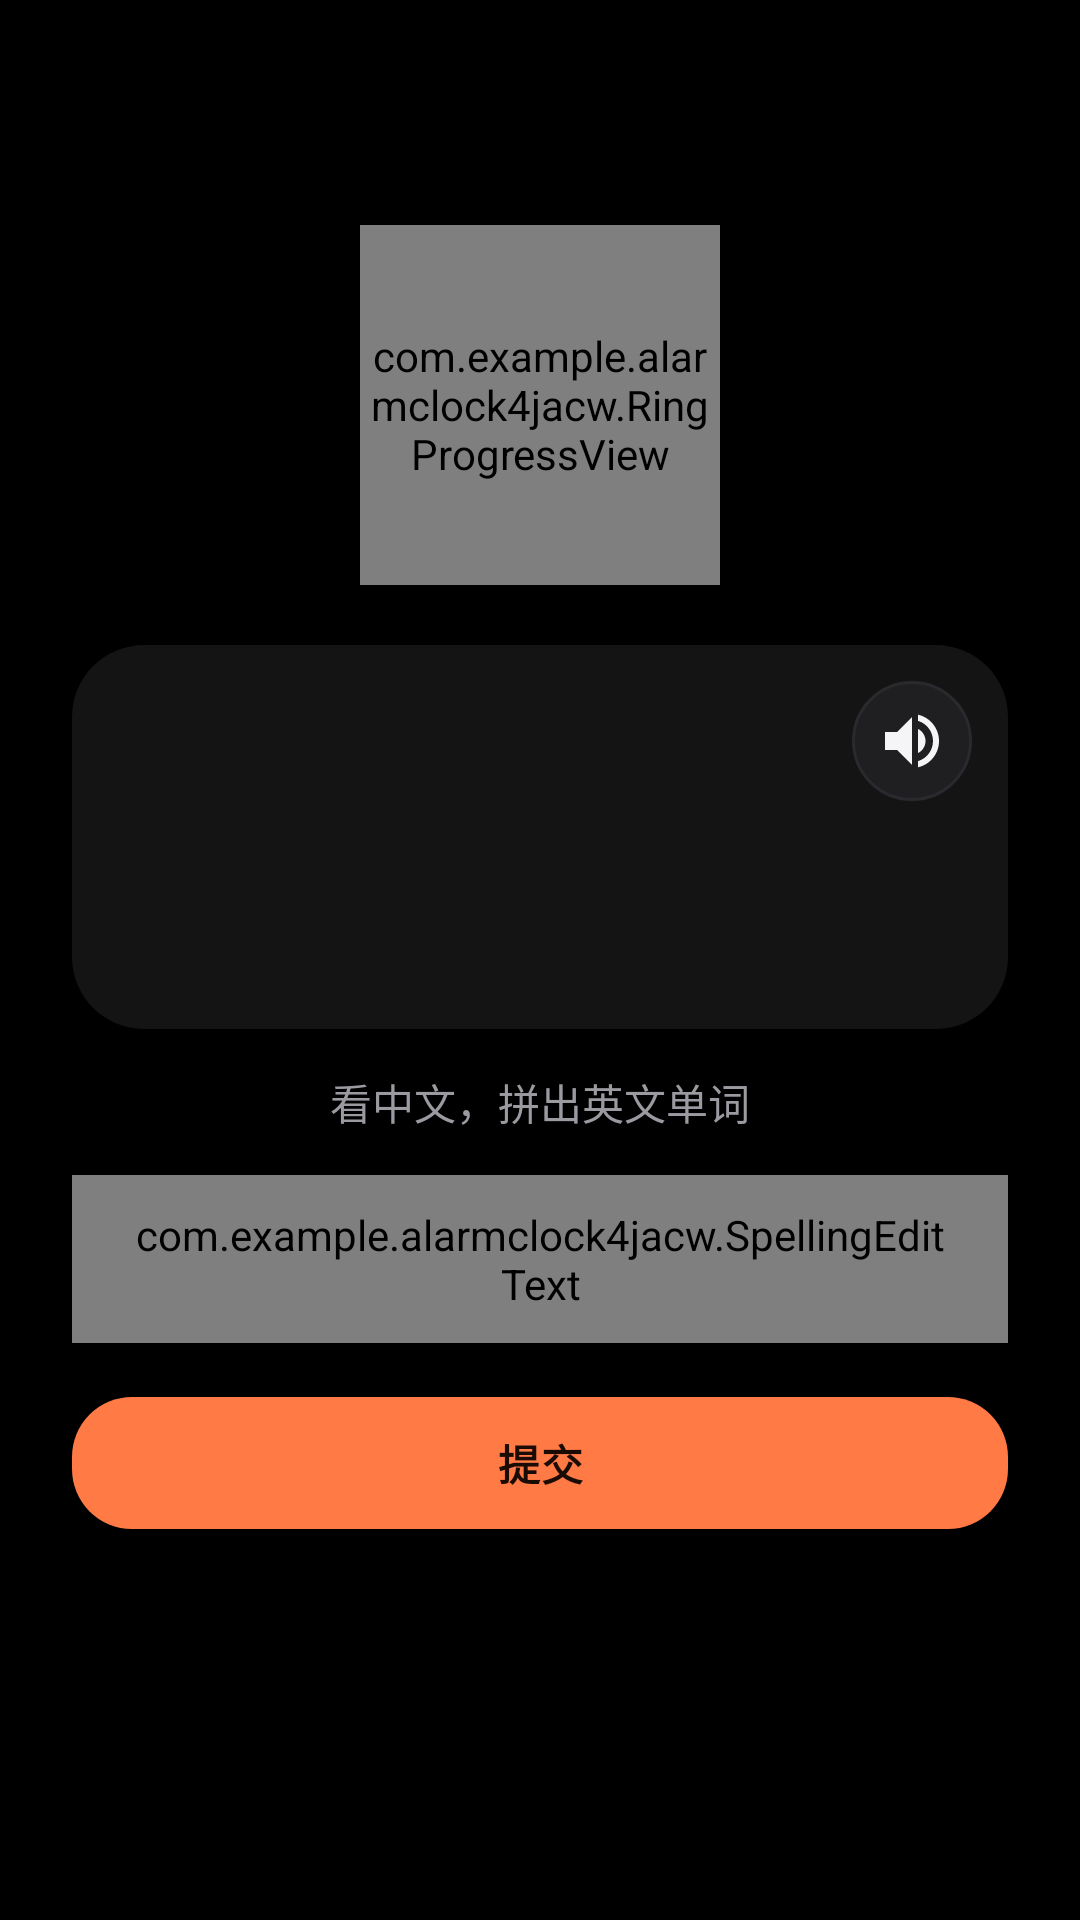

Icons on this 1080x1920 Android screen, each with the point to tap as point (x, y):
播放发音: point (912, 741)
